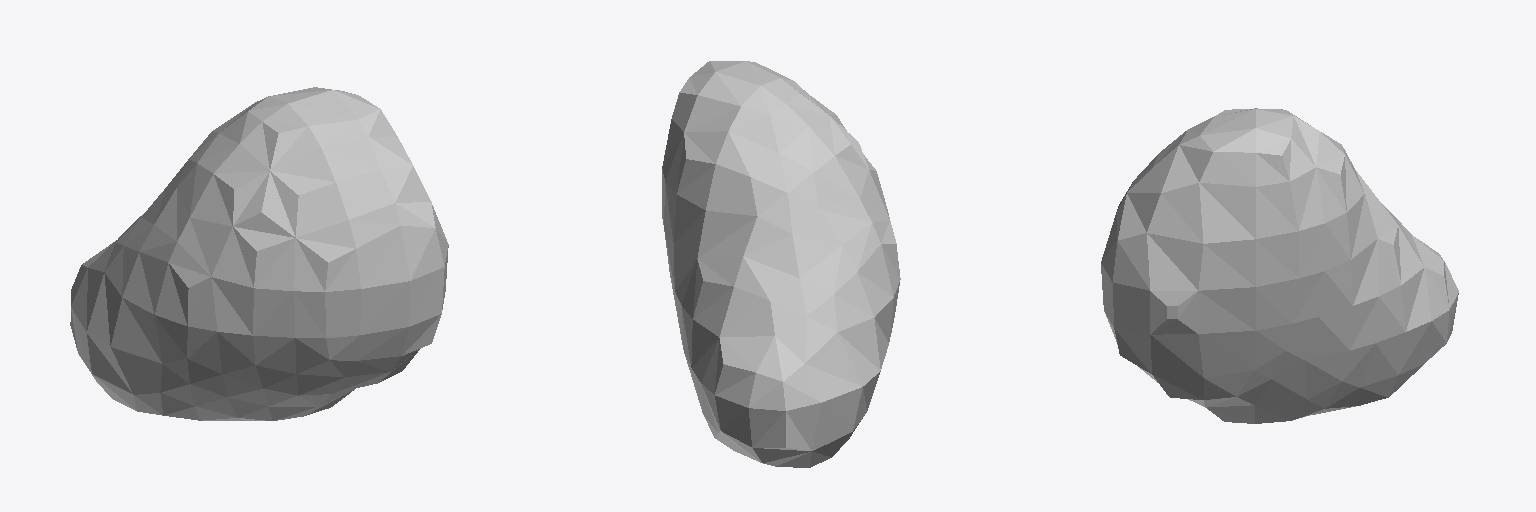
The model's file is modeloPiedras1.obj.
3 renders of one model, left to right at view 1: azimuth 30°, elevation 25°; view 2: azimuth 150°, elevation 25°; view 3: azimuth 270°, elevation 25°, orthographic.
Bounding box in the file's own units: 1.91 × 2.2 × 2.24.